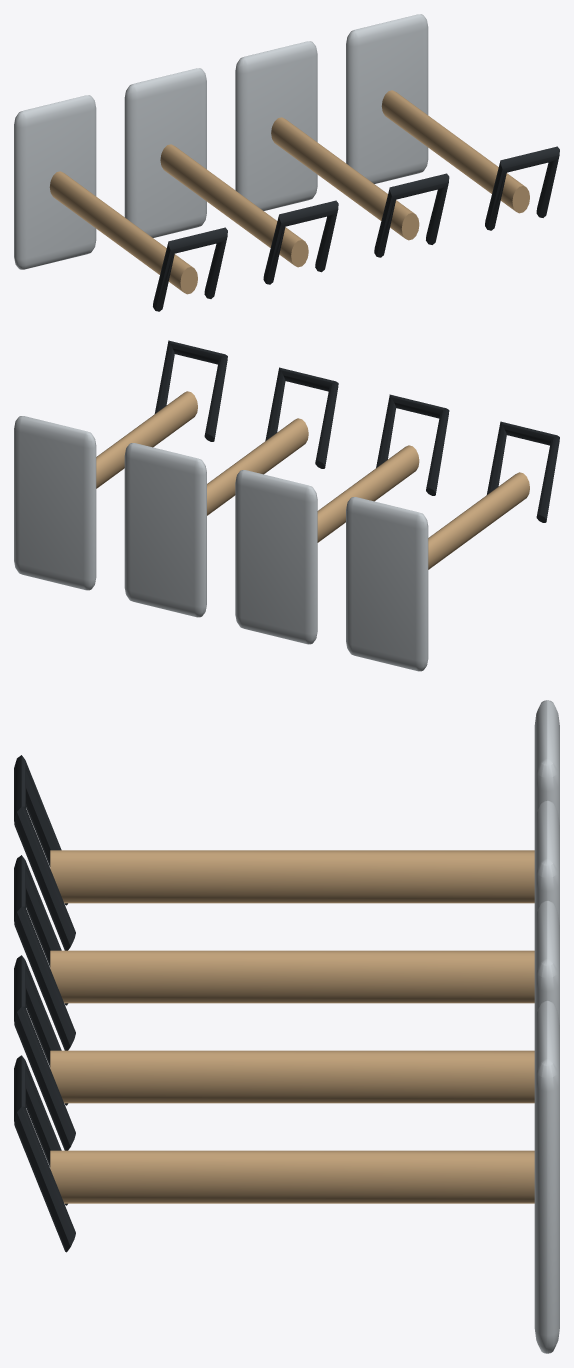
File: ob_upper_case_g1.glb
The picture shows the model from 3 angles, top to bottom: view 1: azimuth 30°, elevation 25°; view 2: azimuth 150°, elevation 25°; view 3: azimuth 270°, elevation 25°; orthographic projection. The views are drawn at different scales.
Parts seen in each view (by area): view 1: ob_upper_case_g1; view 2: ob_upper_case_g1; view 3: ob_upper_case_g1.
Boxes of the visible parts, x1,y1,x2,y2 form: ob_upper_case_g1: (14, 14, 559, 311); ob_upper_case_g1: (14, 340, 559, 671); ob_upper_case_g1: (14, 700, 559, 1353).
Size of the model in its own units: 0.68 by 0.25 by 0.42.
